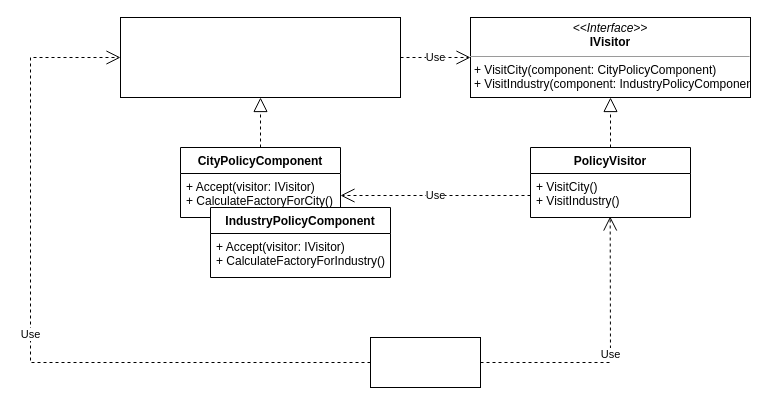
Image size: 777x405. Some labels were removed from this diagram. The shapes that lost their labels are listed below. From the top down, each one's centre as x and y in pixels, then its label:
At pixel 260 57: "<<Interface>> IComponent + Accept(visitor: IVisitor)".
At pixel 425 362: "Client".
